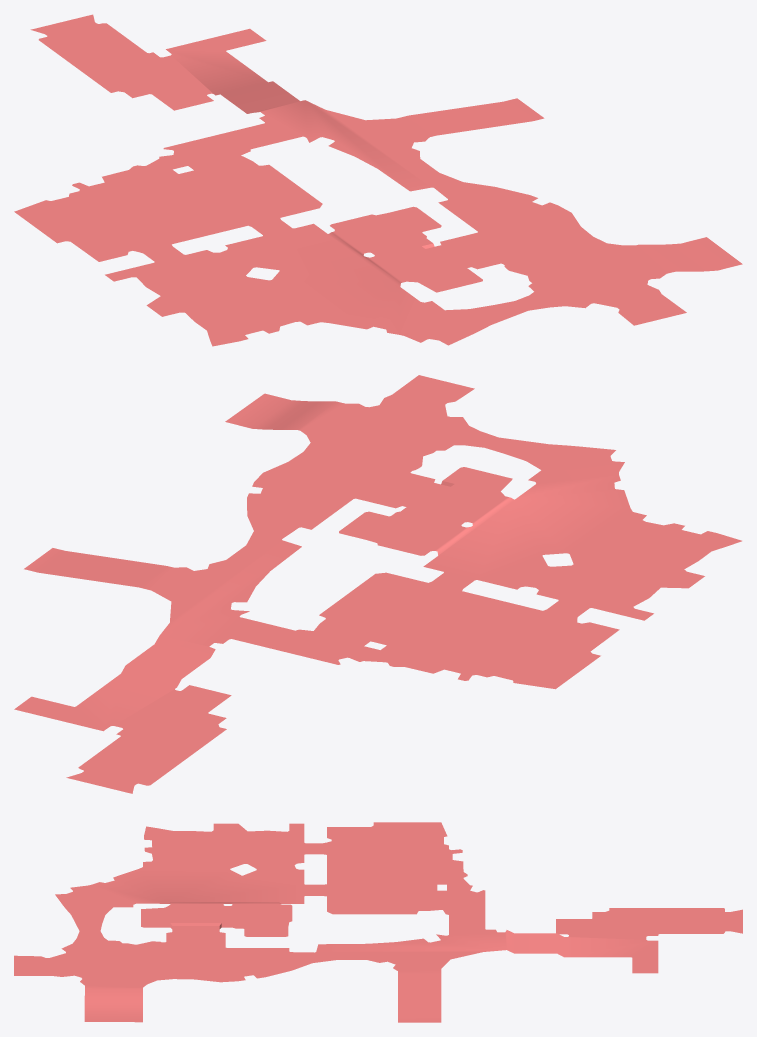
Rendered from Monster_SpawnPoint_ARCHERY.fbx.
3 views of the same model, one above another, from view 1: azimuth 30°, elevation 25°; view 2: azimuth 150°, elevation 25°; view 3: azimuth 270°, elevation 25° (orthographic). The views are drawn at different scales.
Visible parts, largest first — view 1: Archery; view 2: Archery; view 3: Archery.
Boxes of the visible parts, x1,y1,x2,y2 form: Archery: [14, 14, 742, 346]; Archery: [14, 375, 741, 793]; Archery: [14, 822, 742, 1022].
Bounding box in the file's own units: 46.4 × 1.05 × 74.1.
